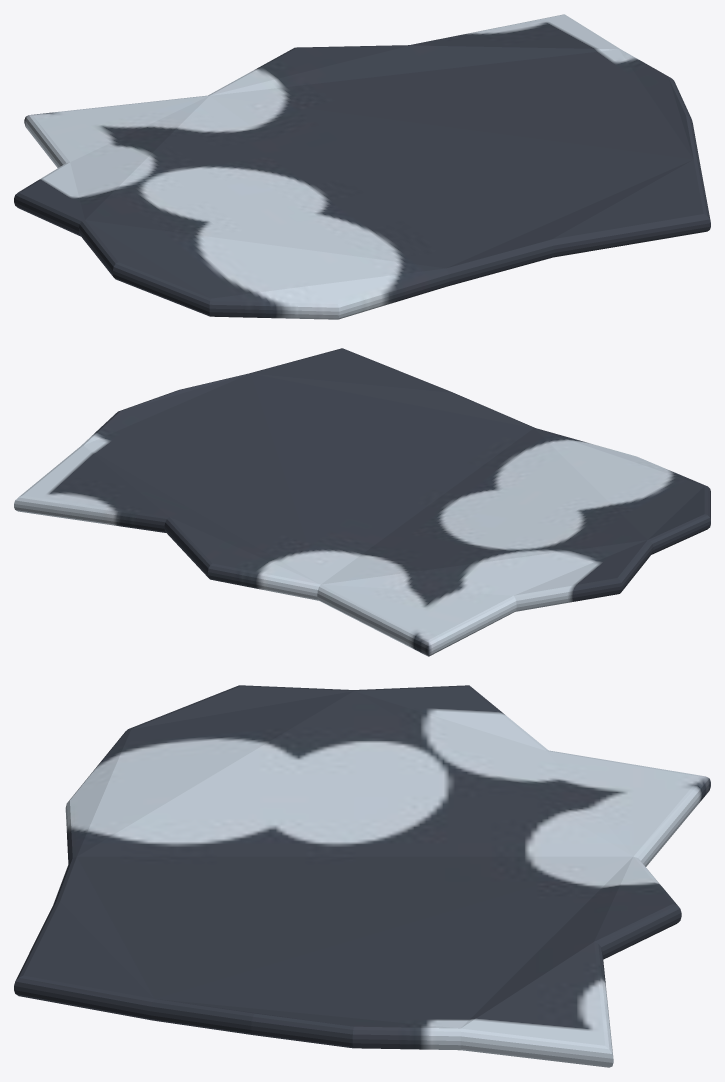
The model's file is alpha_pelt.glb.
3 views of the same model, one above another, from view 1: azimuth 30°, elevation 25°; view 2: azimuth 150°, elevation 25°; view 3: azimuth 270°, elevation 25° (orthographic). The views are drawn at different scales.
Parts seen in each view (by area): view 1: alpha_pelt; view 2: alpha_pelt; view 3: alpha_pelt.
Boxes of the visible parts, x1,y1,x2,y2 form: alpha_pelt: (14,14,710,319); alpha_pelt: (14,348,710,656); alpha_pelt: (14,685,710,1067).
Bounding box in the file's own units: 0.7317 × 0.0509 × 0.6121.
1 material, 1 textured.
